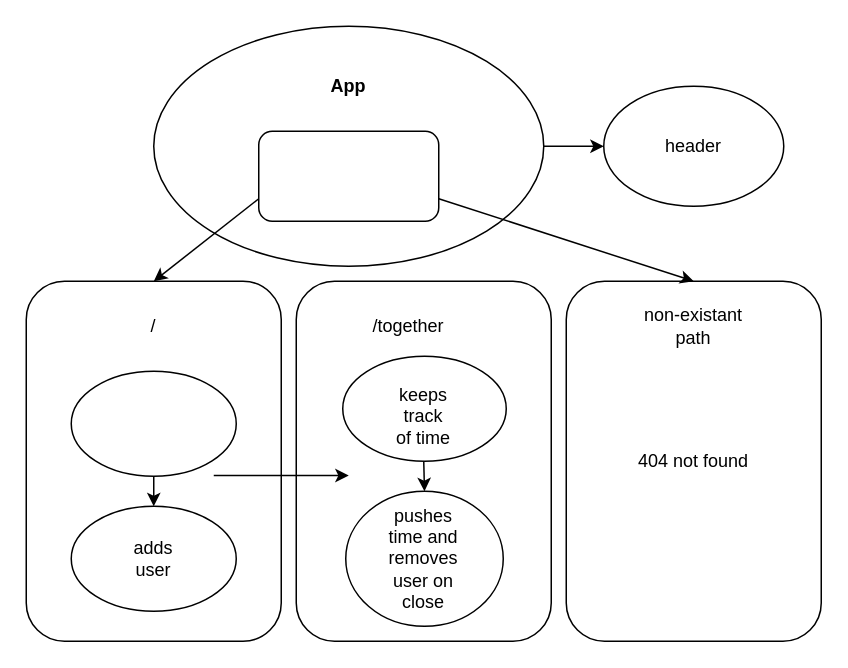
This 848x668 diagram has some shape labels left out. Each missing label, with the centre of its shape:
"Route" goes at [348,175].
"welcome/enter name" goes at [153,423].
